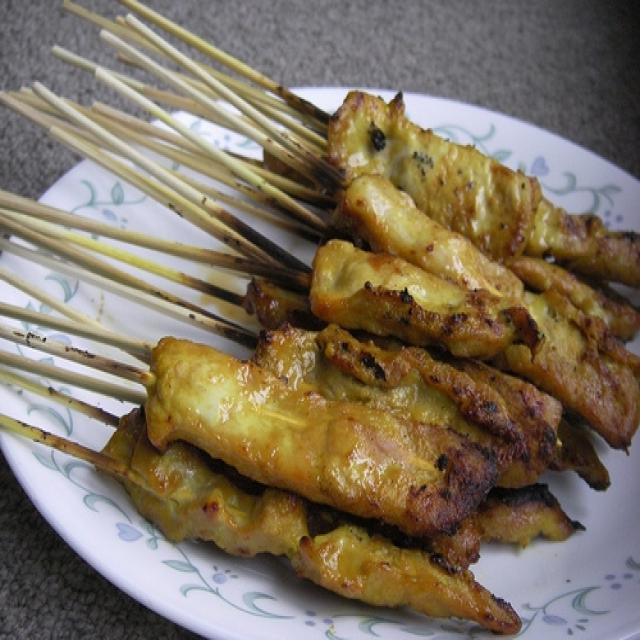牛肉菜式: (9, 29, 626, 618)
